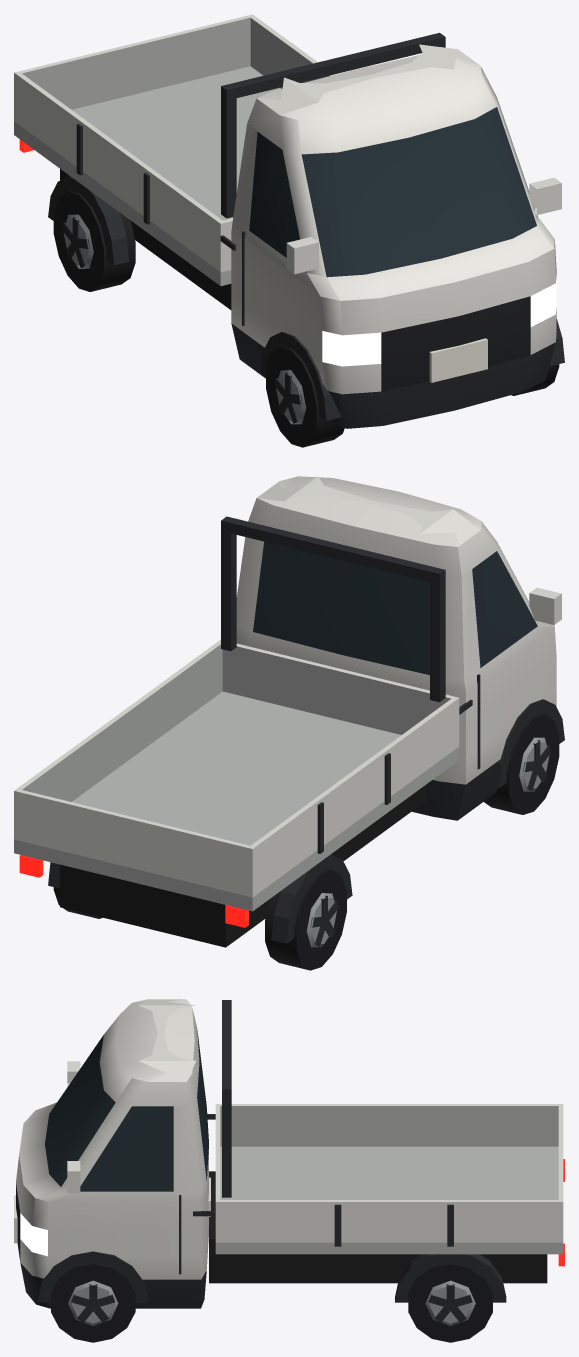
Rendered from tokyo_kei_truck.glb.
3 renders of one model, top to bottom at view 1: azimuth 30°, elevation 25°; view 2: azimuth 150°, elevation 25°; view 3: azimuth 270°, elevation 25°, orthographic. The views are drawn at different scales.
Visible parts, largest first — view 1: tokyo_kei_truck; view 2: tokyo_kei_truck; view 3: tokyo_kei_truck.
Boxes of the visible parts, <box> form: tokyo_kei_truck: <box>14,14,564,447</box>; tokyo_kei_truck: <box>14,476,564,970</box>; tokyo_kei_truck: <box>14,999,564,1342</box>.
Size of the model in its own units: 1.62 by 1.78 by 3.42.
1 material, 1 textured.
